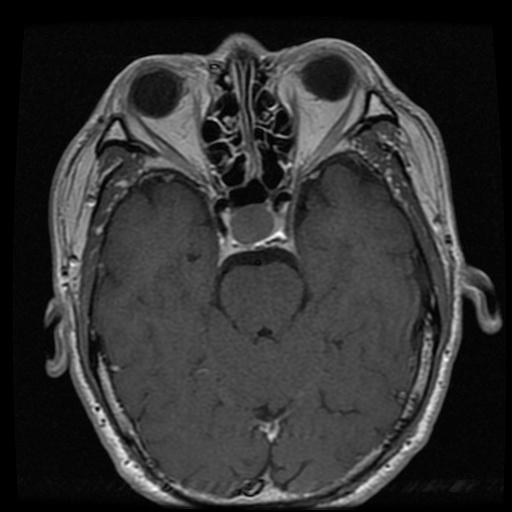pituitary: (229, 202, 277, 245)
